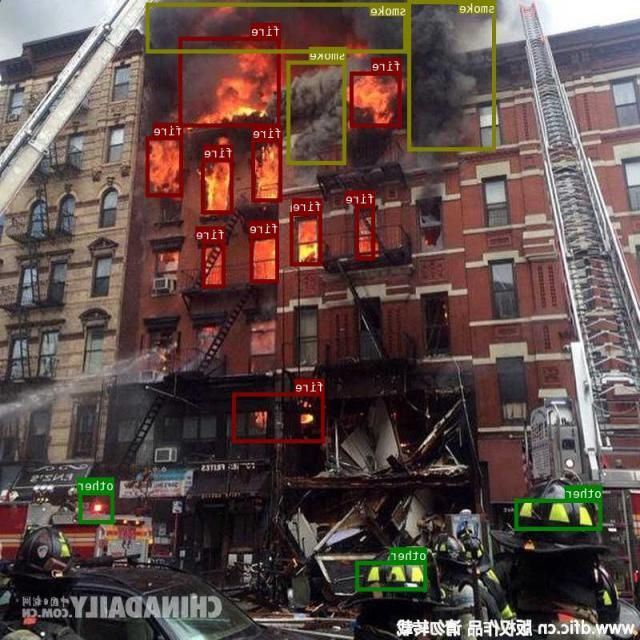fire: (180, 36, 281, 126), (234, 392, 326, 442), (351, 72, 402, 126), (146, 135, 184, 196), (252, 139, 283, 201), (202, 158, 234, 213), (292, 212, 322, 265), (251, 233, 280, 282), (356, 204, 376, 260), (202, 240, 225, 287)
other: (515, 498, 603, 530), (357, 560, 428, 590), (80, 491, 115, 523)
smoke: (147, 2, 408, 53), (408, 0, 496, 150), (287, 60, 347, 164)
